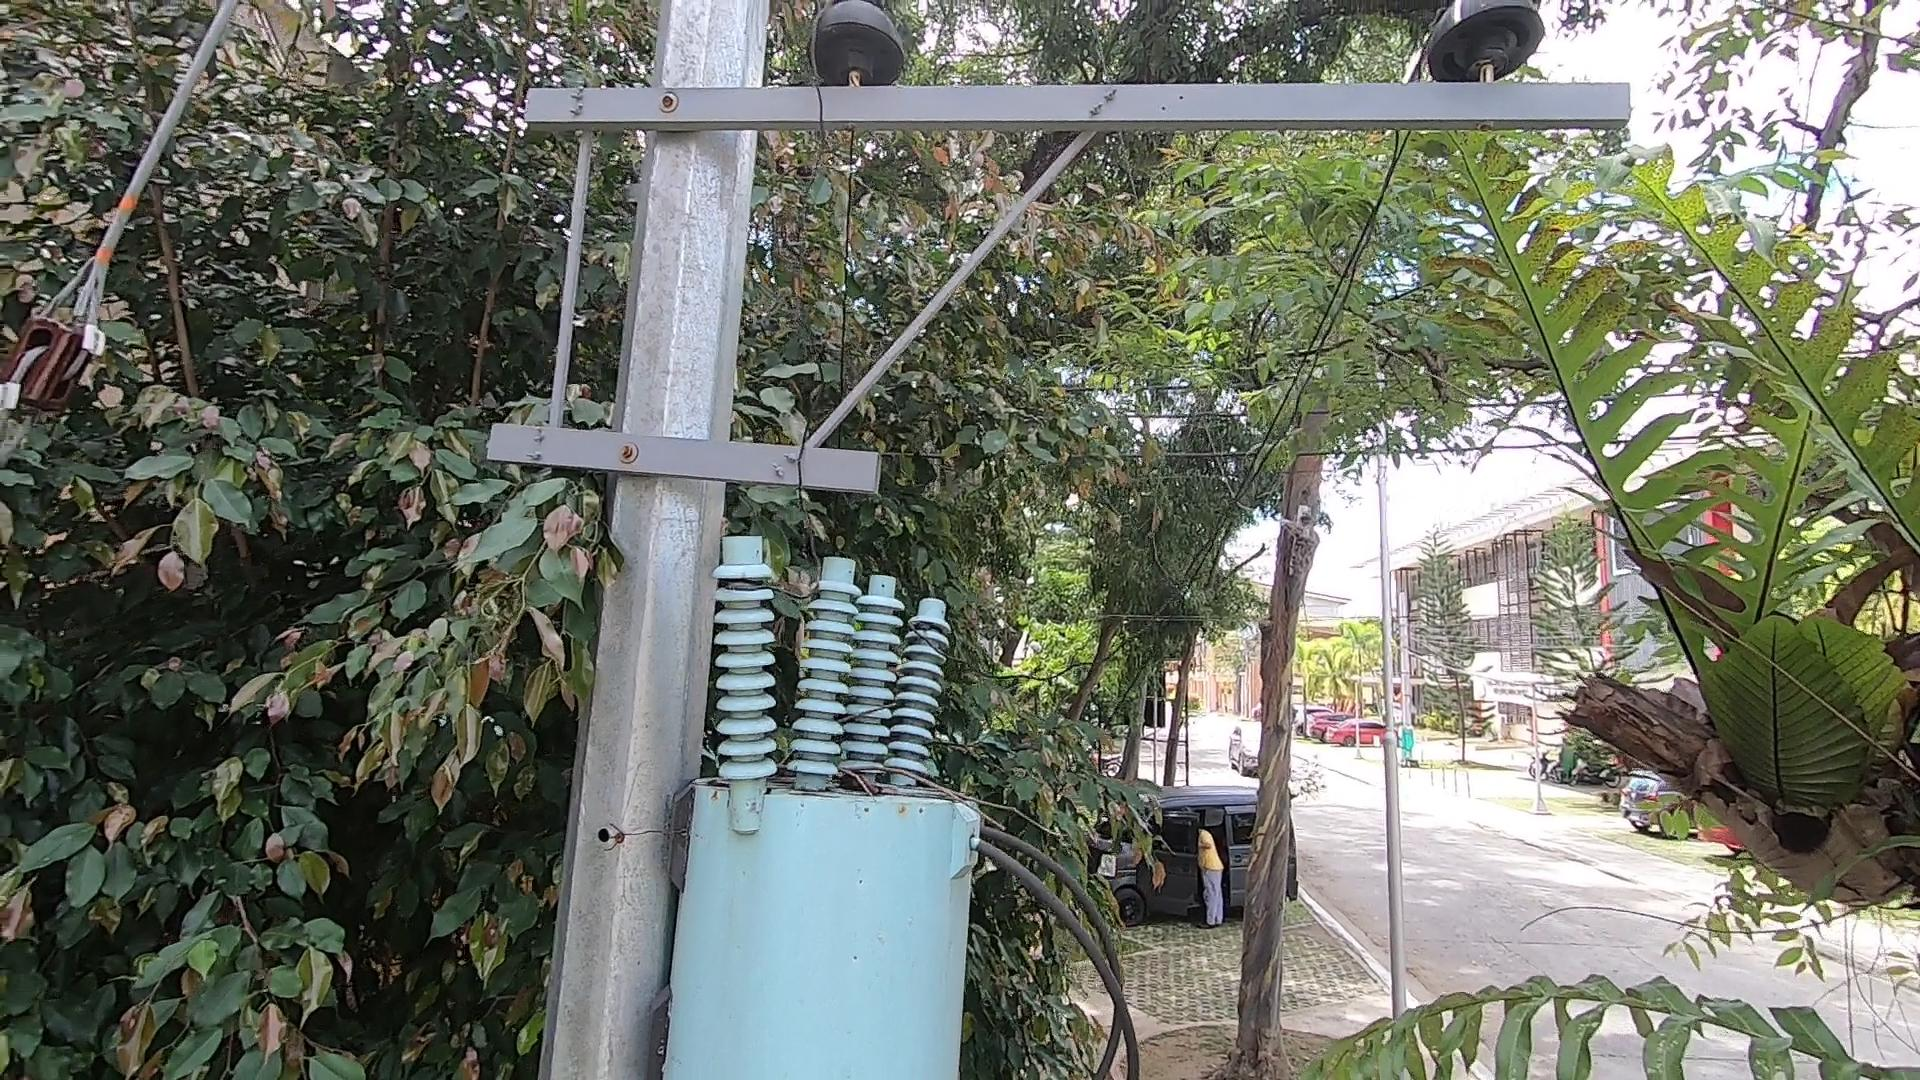leaf: (844, 766, 884, 800)
tree branch: (761, 741, 1076, 852)
